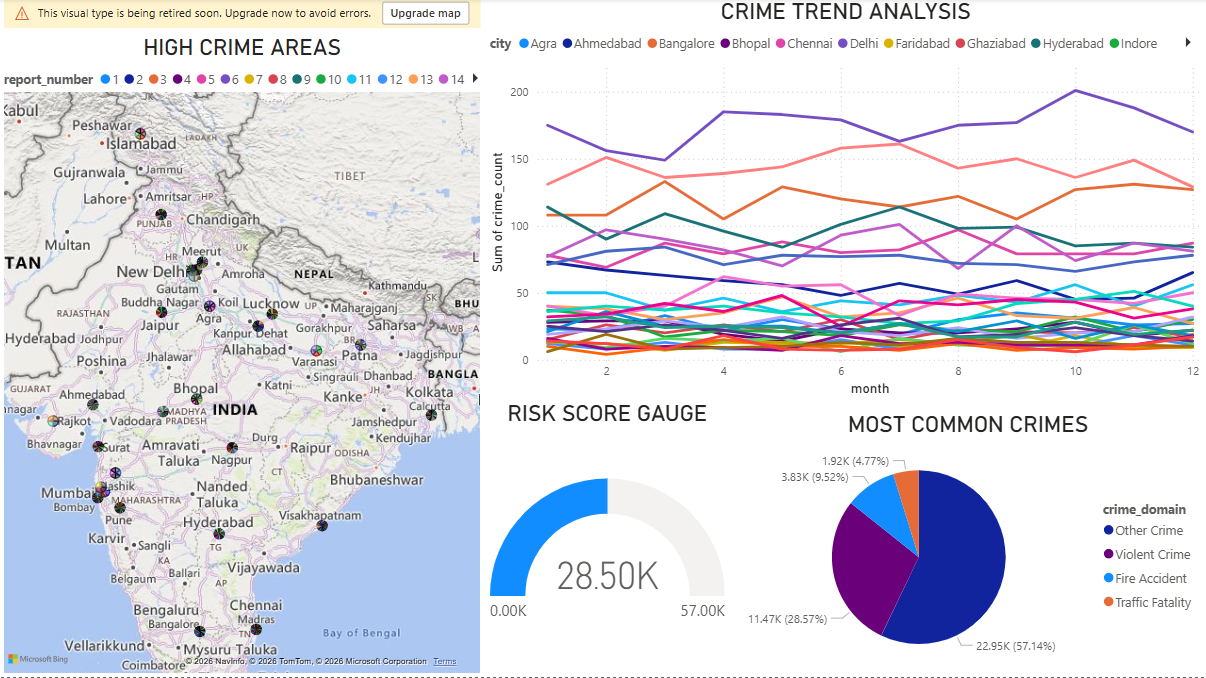

This screenshot's page, from the dashboard's own definition file:
{"tool":"powerbi","page":{"name":"DASHBOARD","canvas":[1280,720],"ordinal":4},"visuals":[{"type":"map","title":"HIGH CRIME AREAS","fields":{"Category":["public crime_hotspots.city"],"Series":["public crime_hotspots.report_number"]},"box":[0,65.2,515.4,655.3],"z":0},{"type":"lineChart","title":"CRIME TREND ANALYSIS","fields":{"Category":["public crime_trends.month"],"Y":["Sum(public crime_trends.crime_count)"],"Series":["public crime_trends.city"]},"box":[515.4,65.2,765.1,375.4],"z":1000},{"type":"gauge","title":"RISK SCORE GAUGE","fields":{"Y":["Sum(public crime_risk_scores.risk_score)"]},"box":[515.4,440.6,259.3,279.9],"z":2000},{"type":"pieChart","title":"MOST COMMON CRIMES","fields":{"Category":["public crime_processed.crime_domain"],"Y":["CountNonNull(public crime_processed.crime_domain)"]},"box":[774.6,440.6,505.8,279.9],"z":3000},{"type":"textbox","box":[0,6.4,1280.4,58.9],"z":4000}]}

Visuals, with their boxes in screenshot pixels (x1, y1, x2, y2), scaled from the page's 1280x720 canvas onto the 1206x678 screenshot:
"HIGH CRIME AREAS" map: box(0, 61, 486, 677)
"CRIME TREND ANALYSIS" lineChart: box(486, 61, 1205, 415)
"RISK SCORE GAUGE" gauge: box(486, 415, 730, 677)
"MOST COMMON CRIMES" pieChart: box(730, 415, 1205, 677)
textbox: box(0, 6, 1205, 61)
